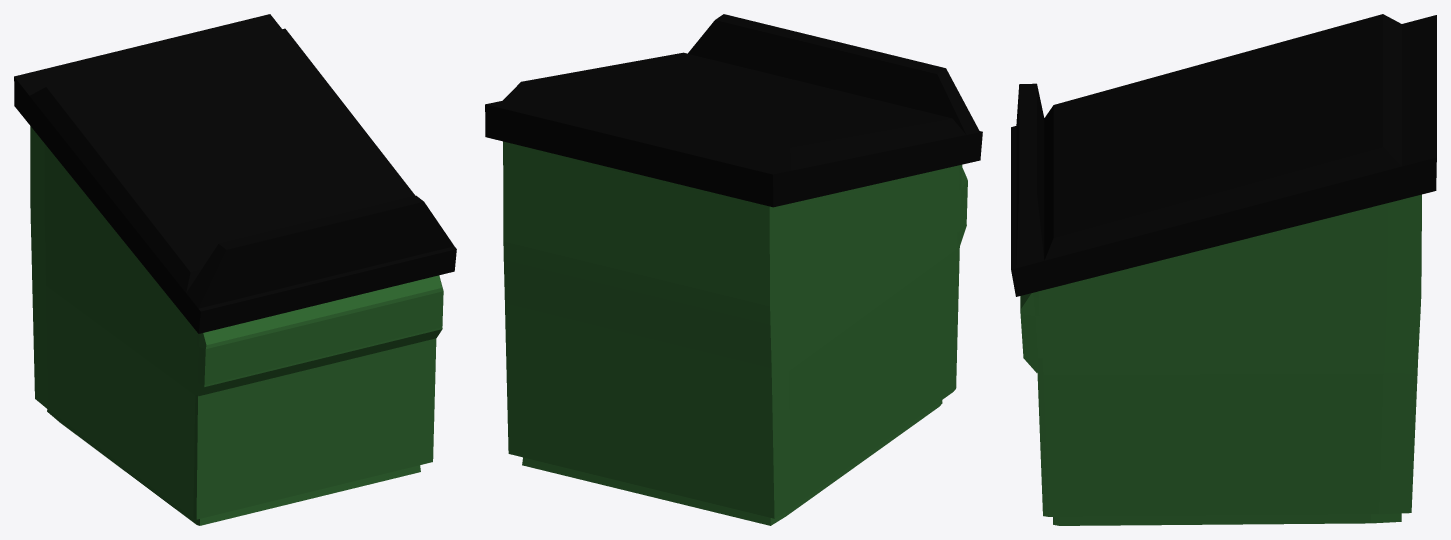
Rendered from trashcan_closed_small.fbx.
3 views of the same model, side by side, from view 1: azimuth 30°, elevation 25°; view 2: azimuth 150°, elevation 25°; view 3: azimuth 270°, elevation 25° (orthographic). The views are drawn at different scales.
Visible parts, largest first — view 1: Cube, Cube.001; view 2: Cube, Cube.001; view 3: Cube, Cube.001.
Boxes of the visible parts, x1,y1,x2,y2 form: Cube: (30, 126, 443, 525); Cube.001: (14, 14, 456, 333); Cube: (503, 141, 967, 525); Cube.001: (485, 14, 982, 207); Cube: (1020, 194, 1421, 525); Cube.001: (1011, 14, 1436, 296).
Size of the model in its own units: 261 by 327 by 329.
